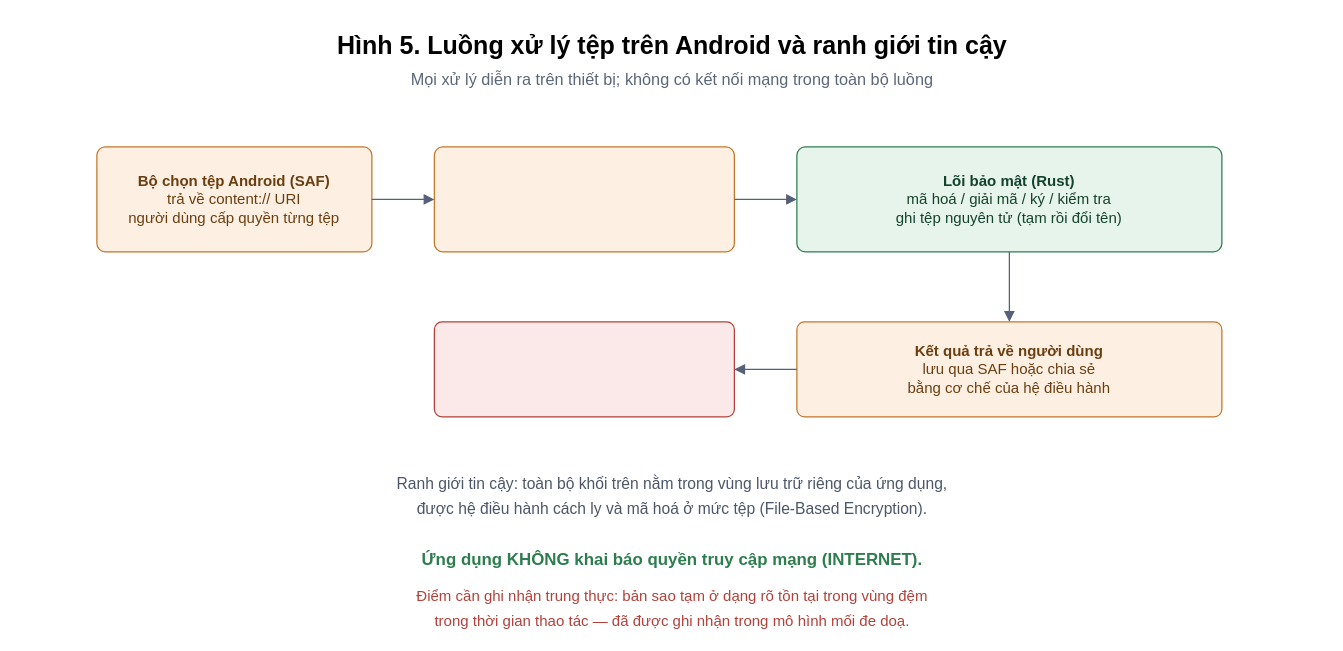
The diagram is 1343 pixels wide and 651 high, and some of its shapes have lost their labels. Each missing label, with the centre of its shape:
"Vùng đệm riêng của ứng dụng sao chép tạm để lõi đọc bằng đường dẫn thật" belongs at (583,199).
"Xoá vùng đệm ghi đè rồi huỷ tệp tạm ngay khi thao tác kết thúc" belongs at (583,369).
